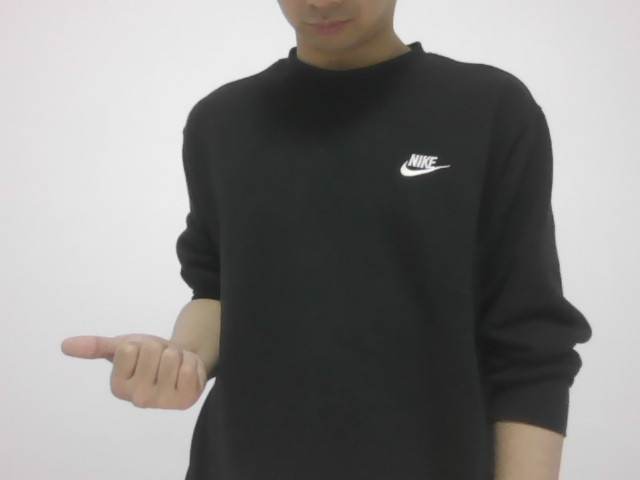have: (52, 321, 209, 422)
